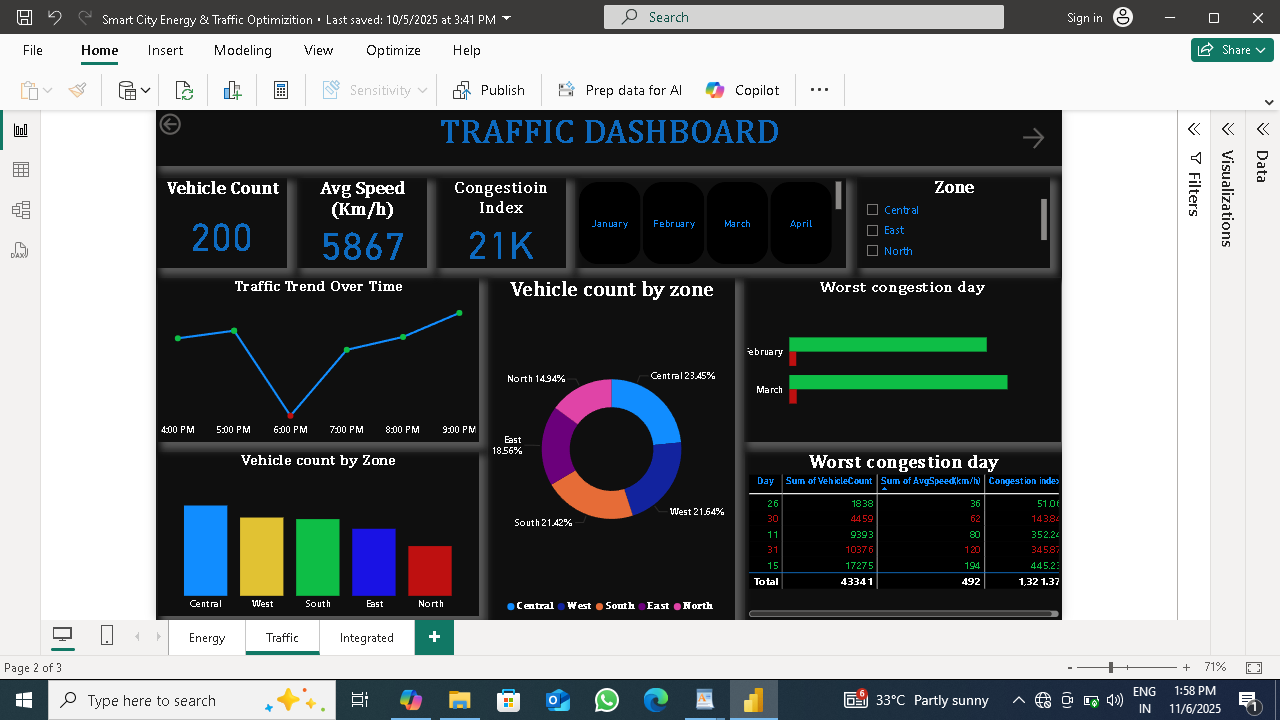

What the dashboard file says about the page in this screenshot:
{"tool":"powerbi","page":{"name":"Traffic ","canvas":[1280,720],"ordinal":1},"visuals":[{"type":"textbox","box":[0,0,1280,78.9],"z":0},{"type":"card","title":"Avg Speed  (Km/h)","fields":{"Values":["Sum(smart_city_dataset.AvgSpeed(km/h))"]},"box":[198.7,95.5,183.5,127.4],"z":1000},{"type":"card","title":"Vehicle Count","fields":{"Values":["CountNonNull(smart_city_dataset.VehicleCount)"]},"box":[1.5,95.5,183.5,127.4],"z":2000},{"type":"card","title":"Congestioin Index","fields":{"Values":["smart_city_dataset.Congestion index"]},"box":[395.8,95.5,183.5,127.4],"z":3000},{"type":"lineChart","title":"Traffic Trend Over Time","fields":{"Category":["smart_city_dataset.PeakHour"],"Y":["Sum(smart_city_dataset.VehicleCount)"]},"box":[3,236.6,453.5,232],"z":4000},{"type":"clusteredColumnChart","title":"Vehicle count by Zone","fields":{"Category":["smart_city_dataset.Zone"],"Y":["Sum(smart_city_dataset.VehicleCount)"]},"box":[3,482.3,453.5,232],"z":5000},{"type":"donutChart","title":"Vehicle count by zone","fields":{"Y":["Sum(smart_city_dataset.EnergyConsumption(kWh))"],"Category":["smart_city_dataset.Zone"]},"box":[468.6,236.6,348.8,483.8],"z":6000},{"type":"tableEx","title":"Worst congestion day","fields":{"Values":["smart_city_dataset.Date.Variation.Date Hierarchy.Day","Sum(smart_city_dataset.VehicleCount)","Sum(smart_city_dataset.AvgSpeed(km/h))","smart_city_dataset.Congestion index"]},"box":[830.9,482.7,448,238],"z":7000},{"type":"advancedSlicerVisual","fields":{"Values":["smart_city_dataset.Date.Variation.Date Hierarchy.Month"]},"box":[591.1,96.2,381.9,126.8],"z":8000},{"type":"slicer","title":"Zone","fields":{"Values":["smart_city_dataset.Zone"]},"box":[989.8,94.7,273.4,128.3],"z":9000},{"type":"clusteredBarChart","title":"Worst congestion day","fields":{"Y":["Sum(smart_city_dataset.VehicleCount)","smart_city_dataset.Congestion index","smart_city_dataset.Congestion index"],"Category":["smart_city_dataset.Date.Variation.Date Hierarchy.Month"]},"box":[830.8,236.9,447.7,232.3],"z":10000},{"type":"actionButton","box":[0,0,100,40],"z":11000},{"type":"actionButton","box":[1218.3,20,45,40],"z":11001}]}

Visuals, with their boxes on the page's 1280x720 design canvas (x1, y1, x2, y2). These are canvas units, not pixel positions in the 1280x720 screenshot, which may show the page scaled, cropped or inside an application window:
textbox: x1=0 y1=0 x2=1280 y2=79
"Avg Speed  (Km/h)" card: x1=199 y1=96 x2=382 y2=223
"Vehicle Count" card: x1=2 y1=96 x2=185 y2=223
"Congestioin Index" card: x1=396 y1=96 x2=579 y2=223
"Traffic Trend Over Time" lineChart: x1=3 y1=237 x2=456 y2=469
"Vehicle count by Zone" clusteredColumnChart: x1=3 y1=482 x2=456 y2=714
"Vehicle count by zone" donutChart: x1=469 y1=237 x2=817 y2=720
"Worst congestion day" tableEx: x1=831 y1=483 x2=1279 y2=721
advancedSlicerVisual - smart_city_dataset.Date.Variation.Date Hierarchy.Month: x1=591 y1=96 x2=973 y2=223
"Zone" slicer: x1=990 y1=95 x2=1263 y2=223
"Worst congestion day" clusteredBarChart: x1=831 y1=237 x2=1278 y2=469
actionButton: x1=0 y1=0 x2=100 y2=40
actionButton: x1=1218 y1=20 x2=1263 y2=60
